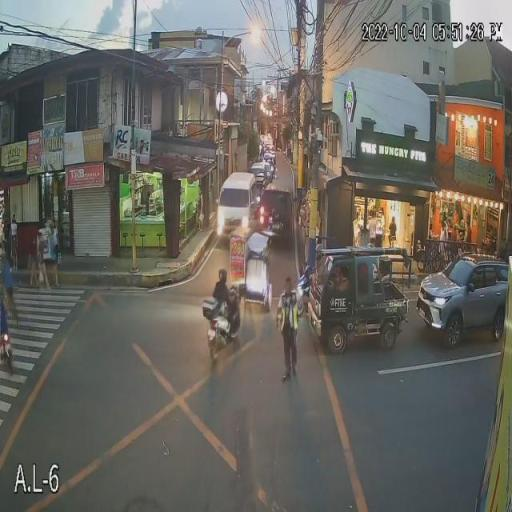helmet: (211, 265, 232, 282)
motorcycle: (201, 289, 241, 363)
rider: (211, 282, 233, 331)
